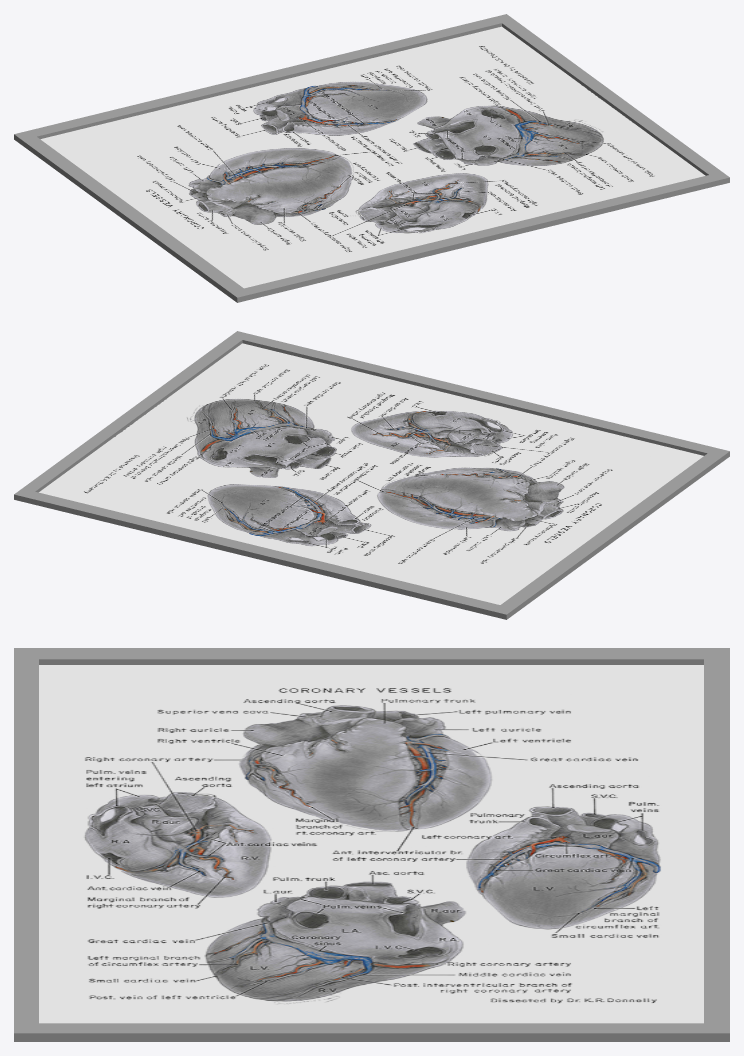
The model's file is heartPoster.fbx.
3 renders of one model, top to bottom at view 1: azimuth 30°, elevation 25°; view 2: azimuth 150°, elevation 25°; view 3: azimuth 270°, elevation 25°, orthographic. The views are drawn at different scales.
Visible parts, largest first — view 1: heartPoster; view 2: heartPoster; view 3: heartPoster.
Part boxes in pixels (box(x1,y1,x2,y2)): heartPoster: box(14, 14, 729, 302); heartPoster: box(14, 331, 729, 619); heartPoster: box(14, 648, 729, 1041).
Size of the model in its own units: 13.57 by 0.1386 by 10.66.
